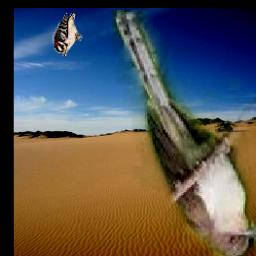Cuckoo: (113, 11, 256, 256)
Woodpecker: (54, 13, 84, 56)
